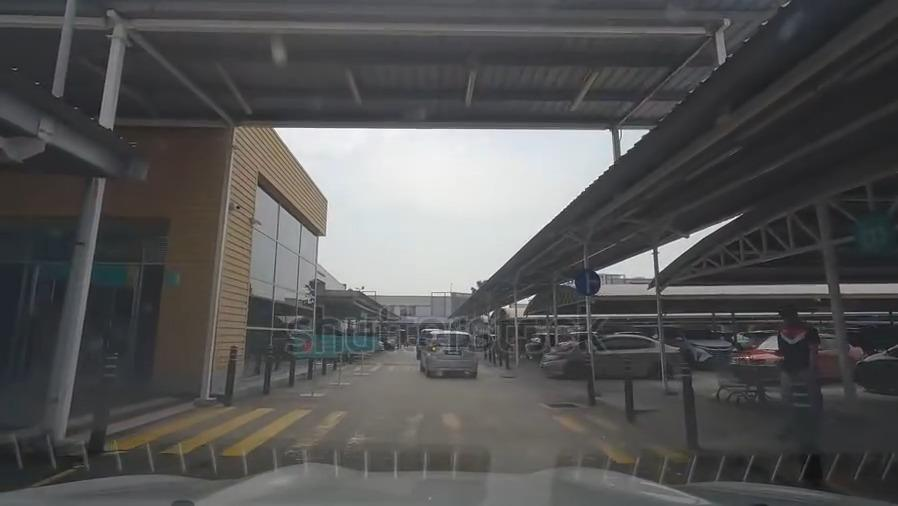car: (541, 331, 680, 380), (741, 327, 859, 383), (669, 326, 734, 367), (420, 331, 479, 376), (854, 349, 898, 391)
manhole: (545, 400, 577, 410), (497, 370, 520, 383)
pedestrian: (77, 408, 667, 459), (351, 363, 507, 371)
person: (769, 303, 826, 443)
speedbump: (353, 358, 495, 368)
